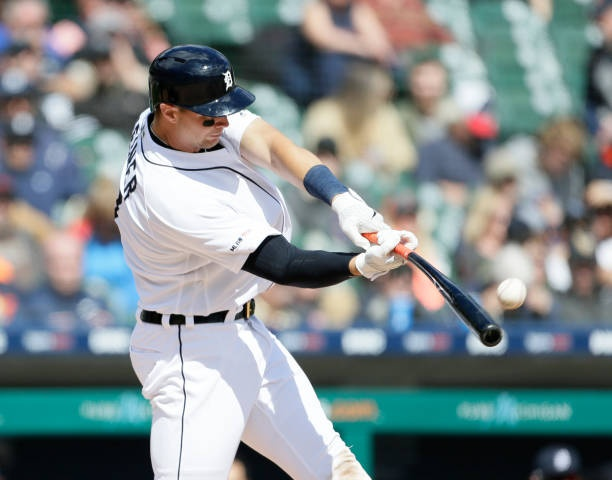bita: (364, 229, 502, 347)
